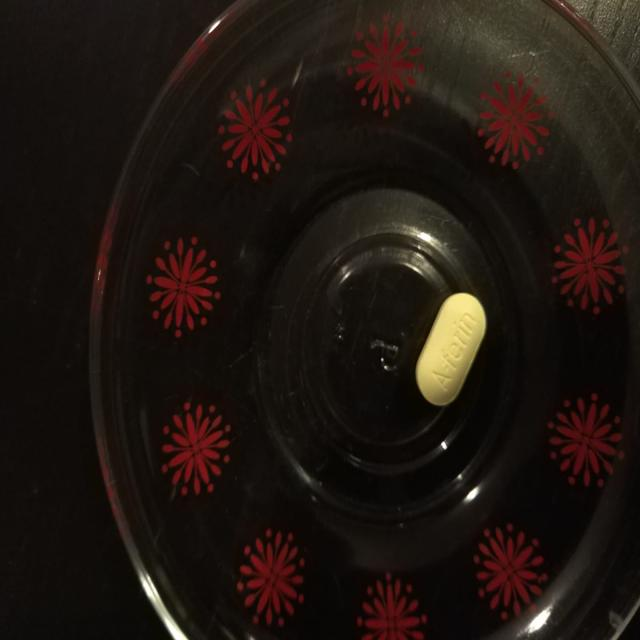pills: (407, 271, 491, 417)
